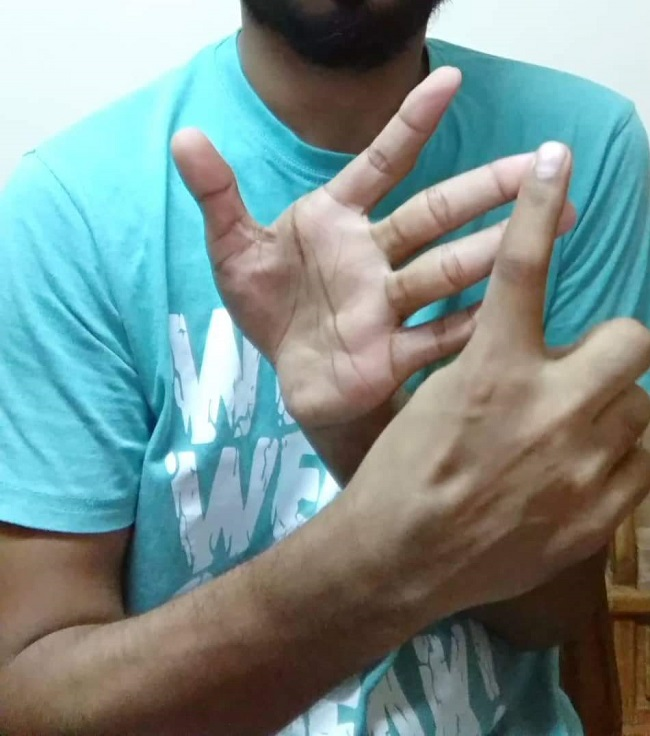u: (183, 72, 637, 468)
